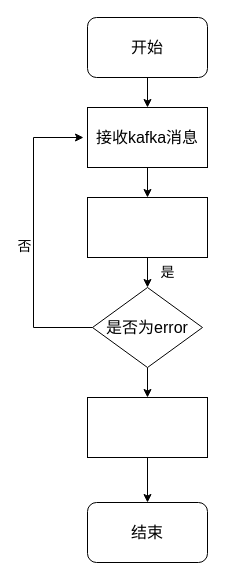
Some shapes in this 225 by 580 pixel diagram are drawn without their labels. Here are the shapes that lost their labels. From the top down, the centre of each, then its label:
At (147,227): "解析日志消息".
At (147,427): "发送到聚合器".
